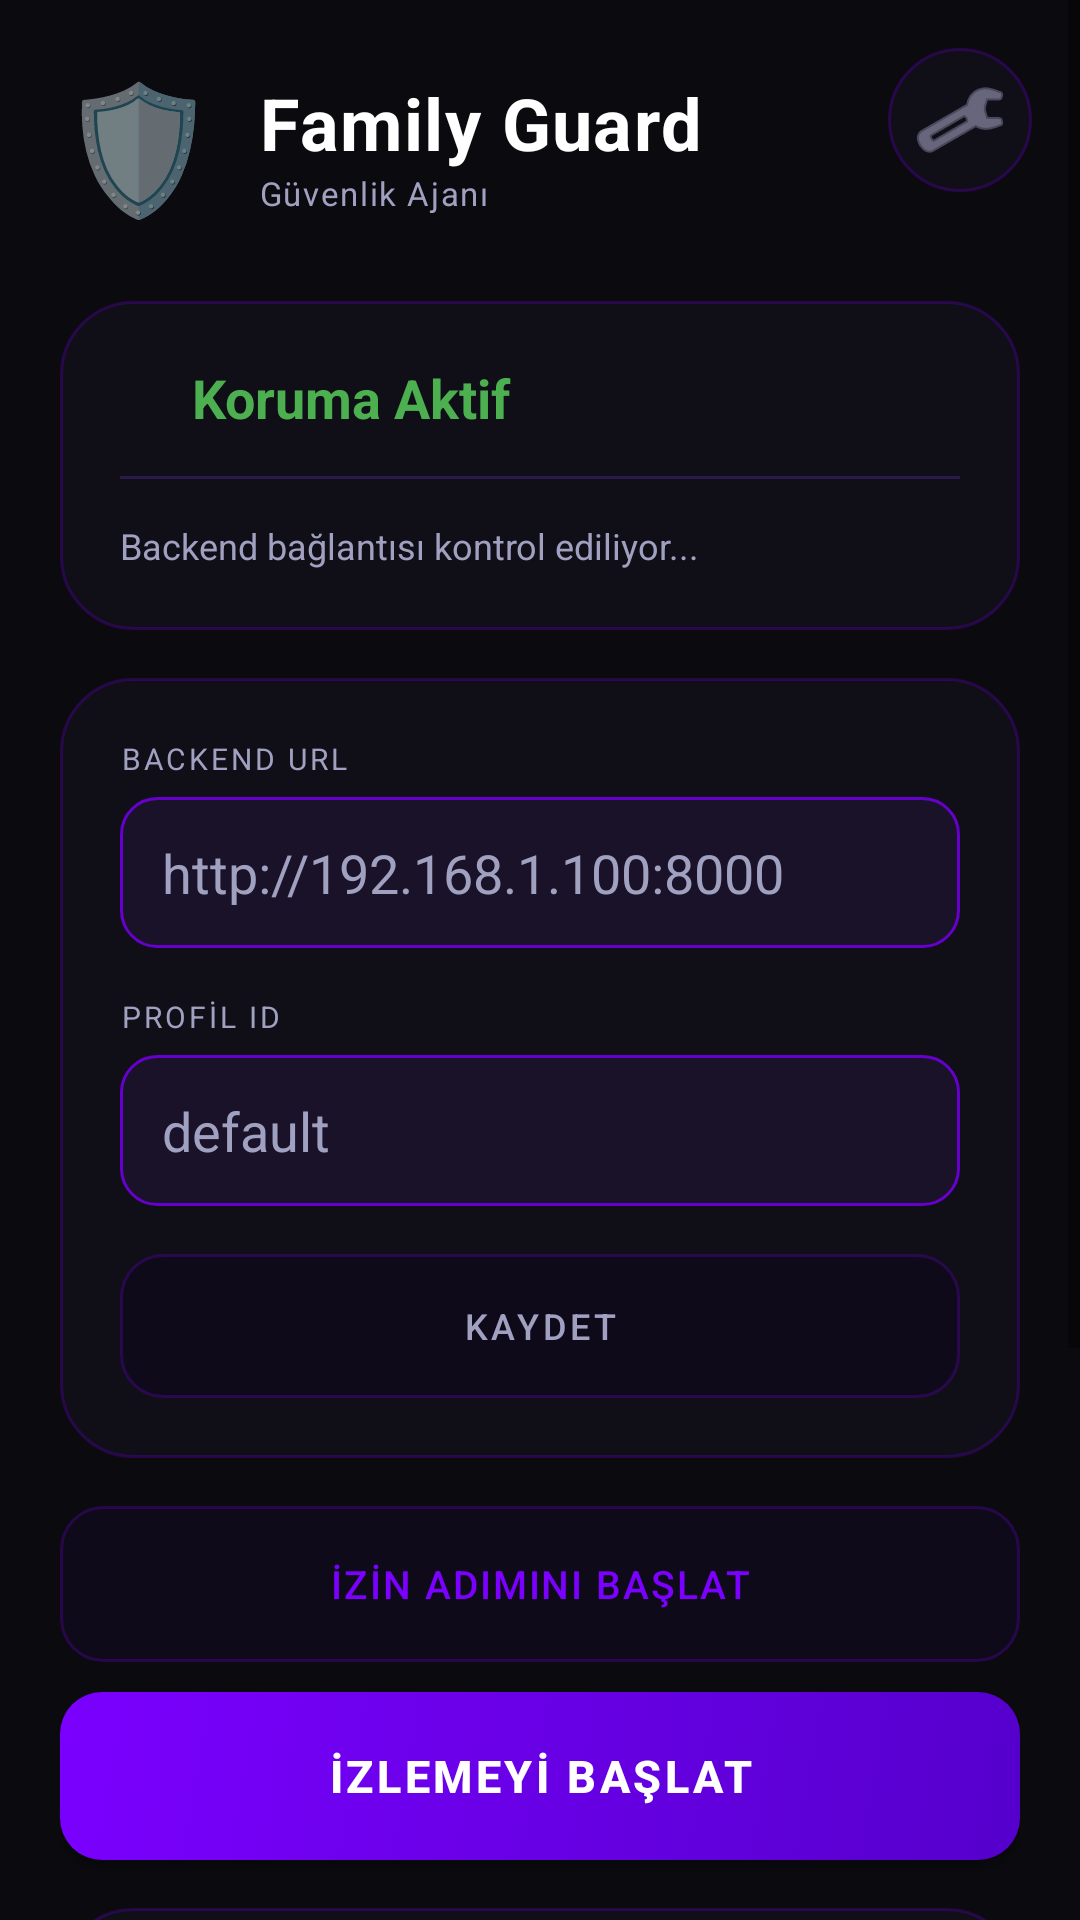

Icons on this 1080px×1920px Android screen, each with the point to tap as (x=x, y=y):
Ayarlar: (x=960, y=120)
